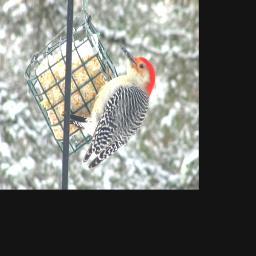Woodpecker: (66, 49, 156, 169)
